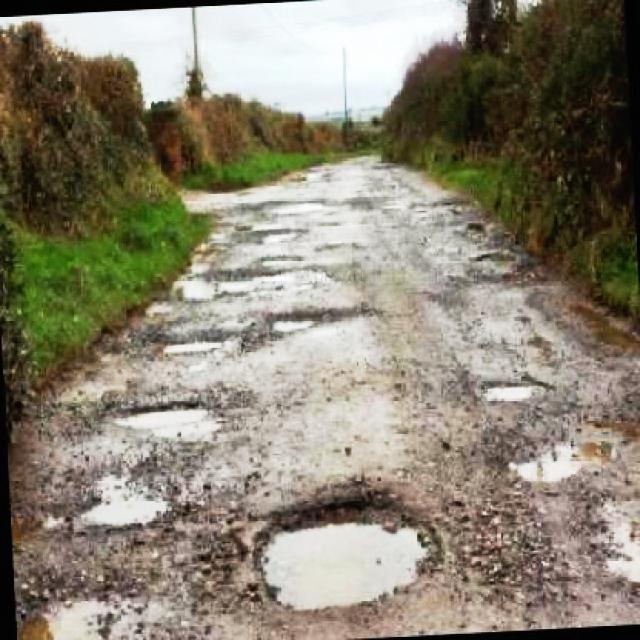pothole: (243, 481, 449, 617), (492, 423, 625, 489), (234, 304, 354, 364), (14, 574, 123, 640), (75, 478, 183, 534), (111, 398, 223, 444), (584, 501, 640, 590), (154, 326, 232, 360), (214, 269, 301, 297), (476, 375, 536, 408)
